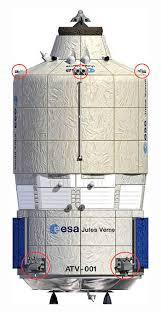antenna: (87, 290, 97, 304), (39, 50, 51, 61)
body: (9, 26, 150, 292)
solar: (11, 217, 26, 270), (135, 216, 149, 269)
thruster: (48, 290, 59, 306), (102, 290, 113, 305), (78, 203, 86, 211), (65, 203, 73, 210), (72, 15, 79, 22), (104, 55, 111, 62), (82, 16, 89, 22), (115, 262, 121, 268), (51, 56, 58, 61), (140, 69, 147, 74), (75, 68, 80, 75), (28, 255, 32, 263), (124, 256, 129, 262), (128, 257, 134, 262), (38, 262, 44, 267), (81, 68, 85, 75), (14, 70, 21, 74), (32, 256, 36, 262)
